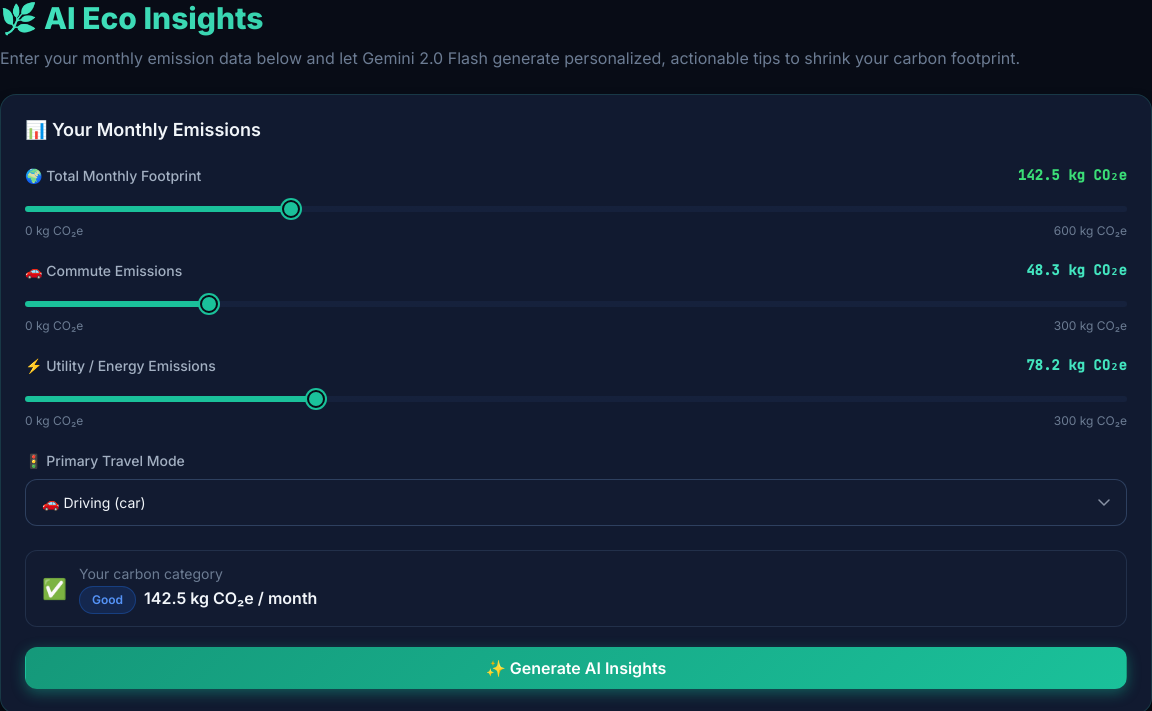
it: InsightsPage › shows error alert on API failure
The width and height of the screenshot is (1152, 711).
Click the button named "Generate personalized eco insights" at (576, 668), box [25,647,1127,689]
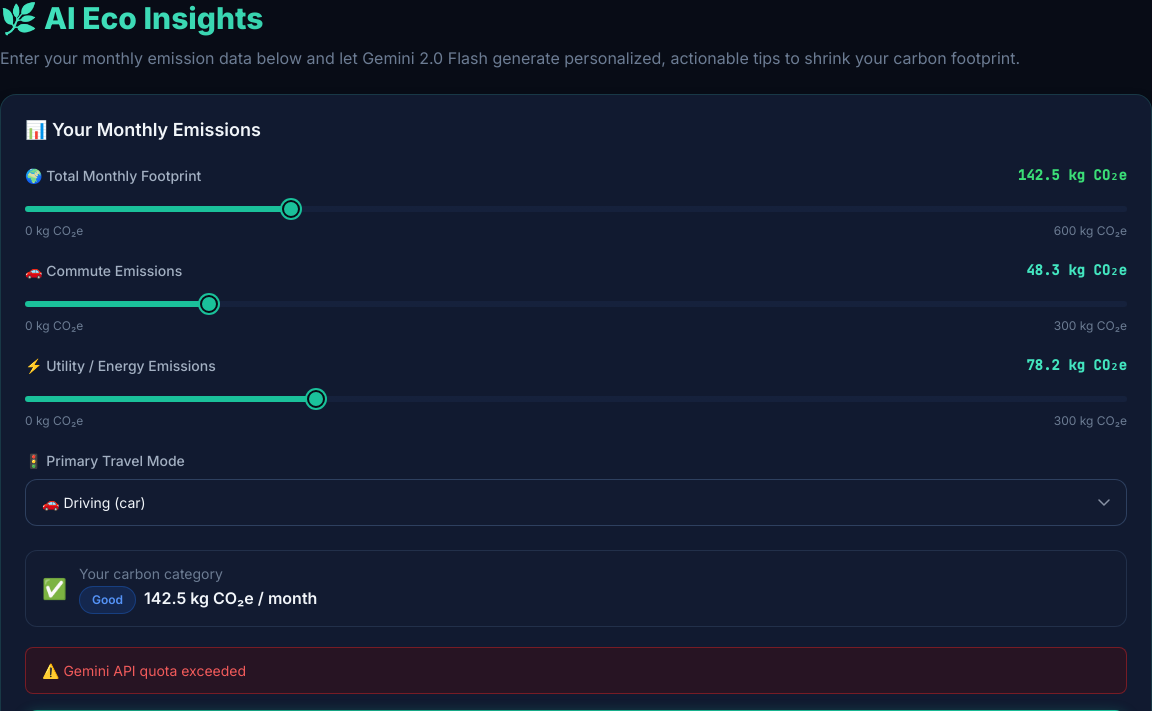
Check: the message shows "Gemini API quota exceeded", box [63,662,246,679]
